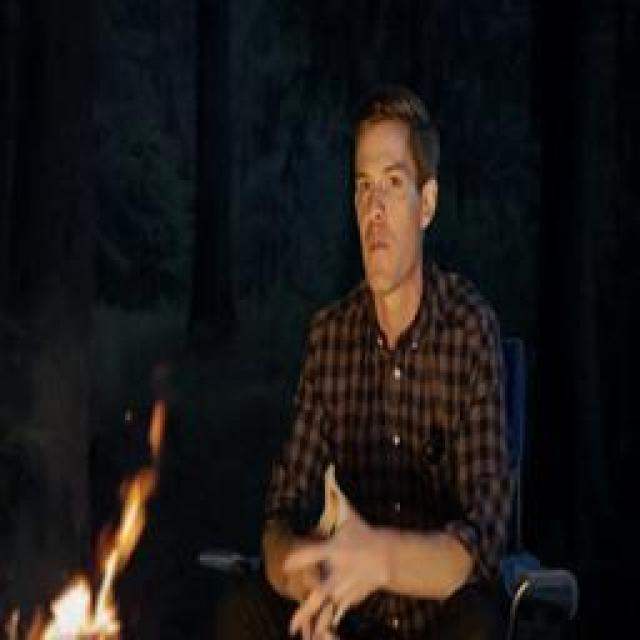Fire: (35, 405, 163, 640)
